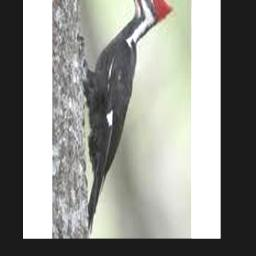Woodpecker: (83, 0, 174, 233)
